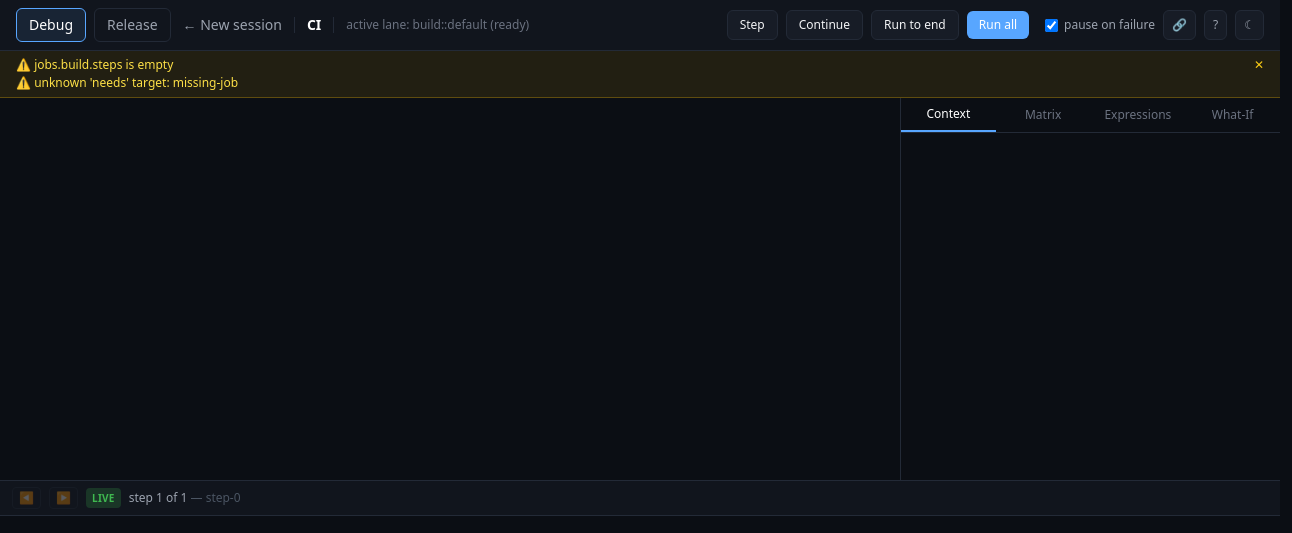
DebuggerApp › renders the parse-warning banner and dismisses it
The width and height of the screenshot is (1292, 533).
Check: the list item "⚠ jobs.build.steps is empty" is shown, box [16, 56, 173, 73]
Check: the list item "⚠ unknown 'needs' target: missing-job" is shown, box [16, 74, 238, 91]
Click the button named "dismiss parse warnings": x=1259, y=65 [1254, 57, 1264, 73]
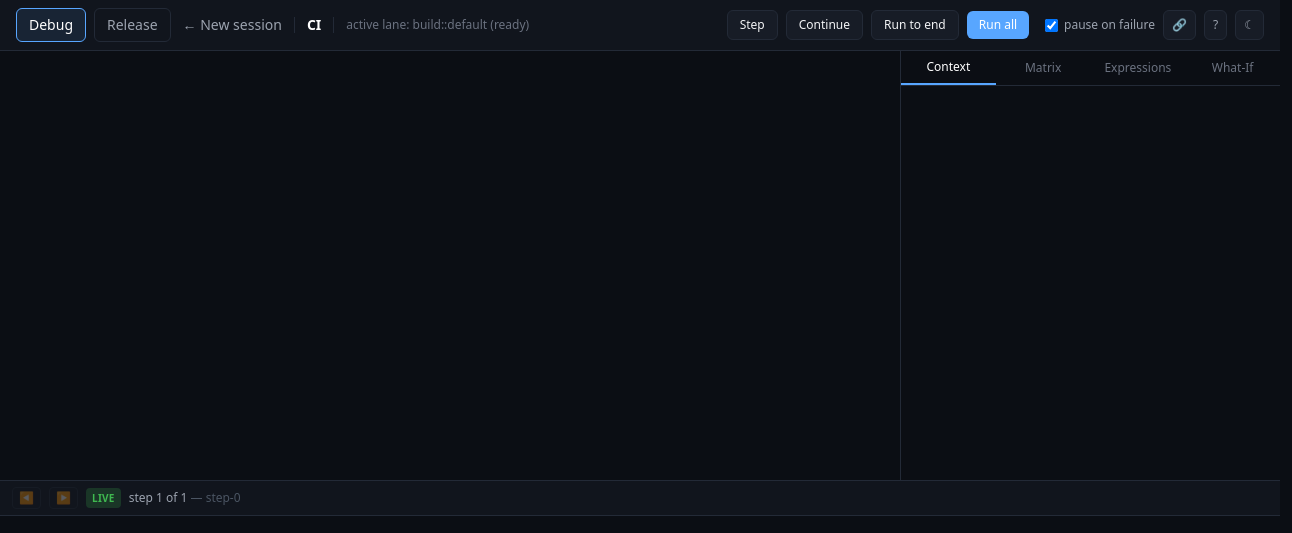
Check: the list item "jobs.build.steps is empty" is gone
Check: the list item "unknown 'needs' target" is gone
